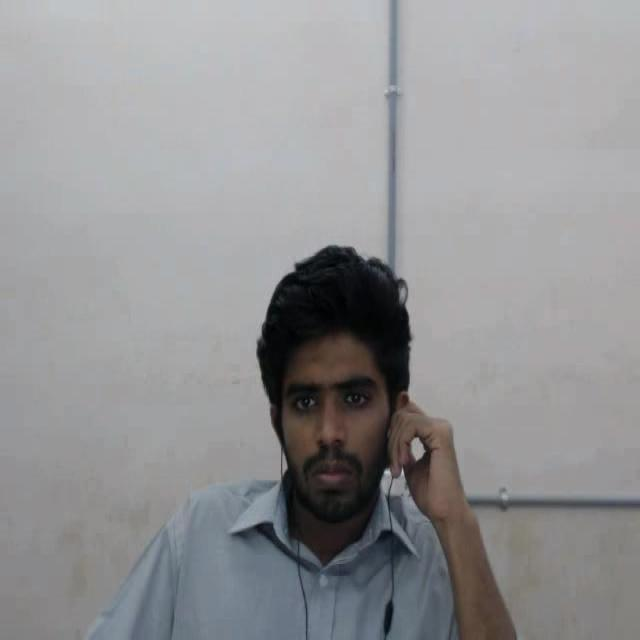Engaged: (236, 232, 442, 566)
